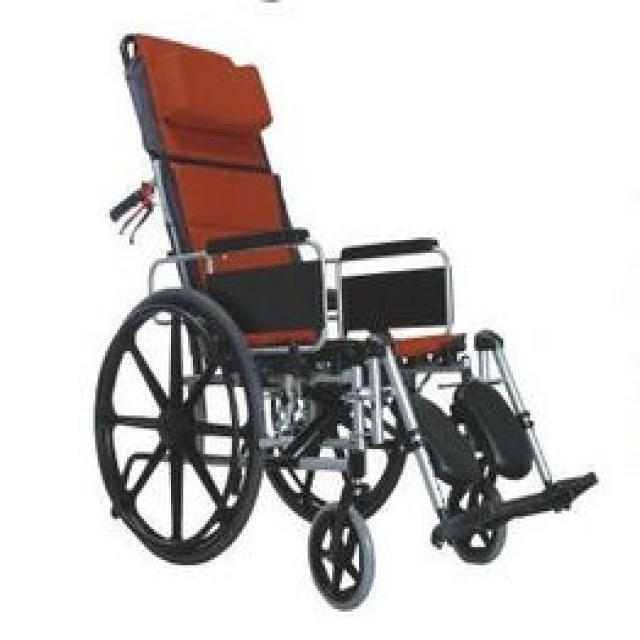wheelchair: (85, 28, 601, 609)
